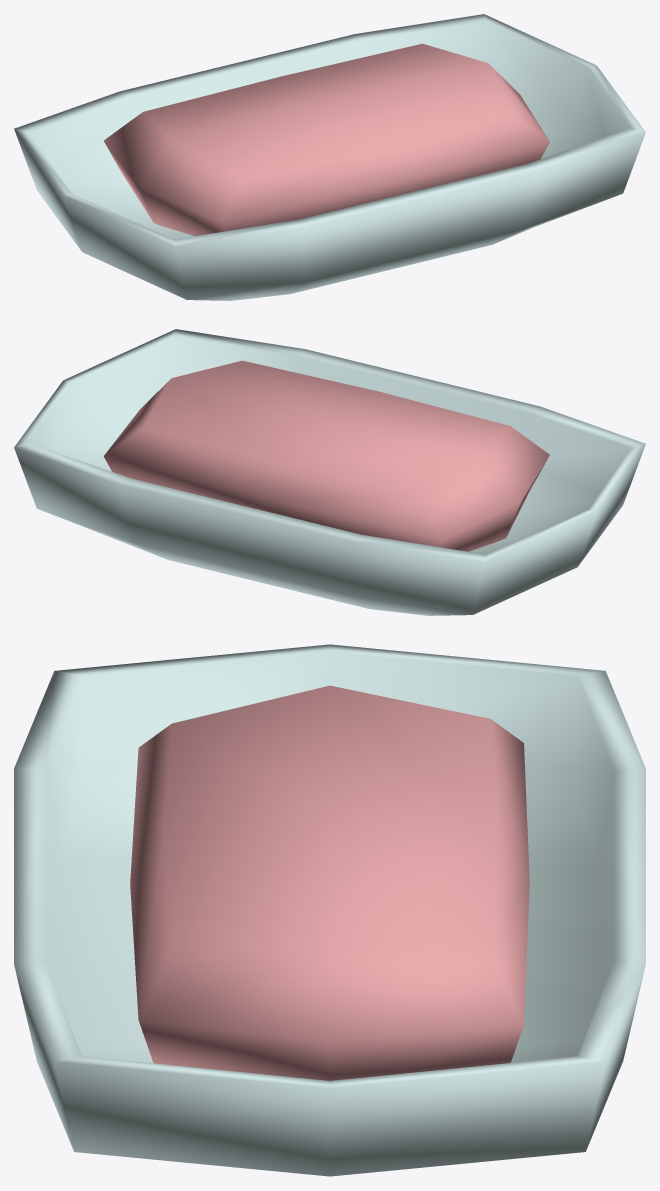
Rendered from Soap_Holder.fbx.
3 renders of one model, top to bottom at view 1: azimuth 30°, elevation 25°; view 2: azimuth 150°, elevation 25°; view 3: azimuth 270°, elevation 25°, orthographic. The views are drawn at different scales.
Visible parts, largest first — view 1: Soap_Holder, Solid soap; view 2: Soap_Holder, Solid soap; view 3: Soap_Holder, Solid soap.
Part boxes in pixels (box(x1,y1,x2,y2)): Soap_Holder: box(14, 14, 645, 300); Solid soap: box(103, 43, 549, 236); Soap_Holder: box(14, 329, 645, 615); Solid soap: box(103, 360, 549, 551); Soap_Holder: box(14, 644, 645, 1176); Solid soap: box(130, 685, 529, 1080).
Size of the model in its own units: 18.89 by 4.15 by 11.37.
